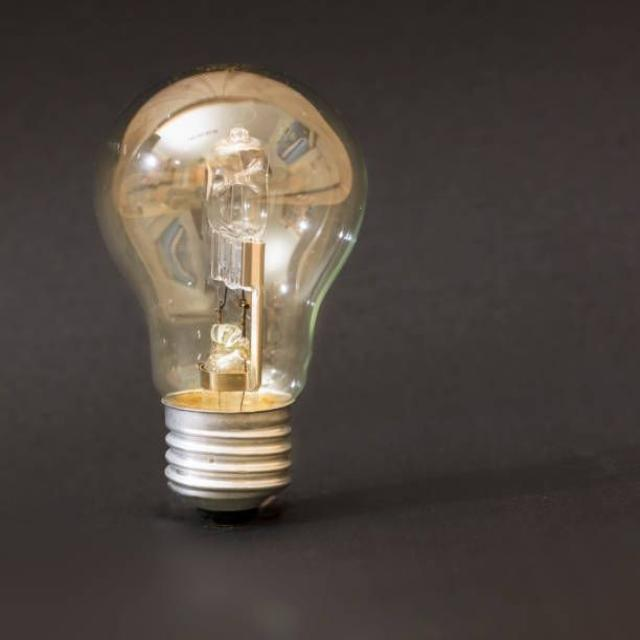electronic: (91, 61, 368, 523)
